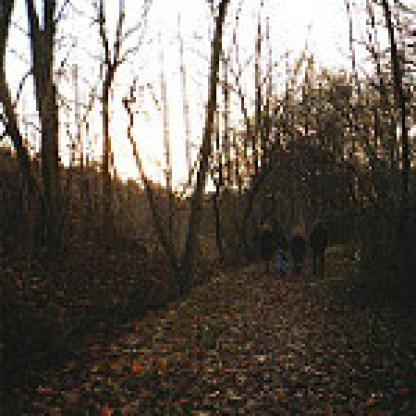road: (61, 239, 377, 413)
tree: (89, 3, 155, 236)
trunk: (169, 0, 234, 289), (25, 0, 58, 244), (380, 3, 413, 233)
